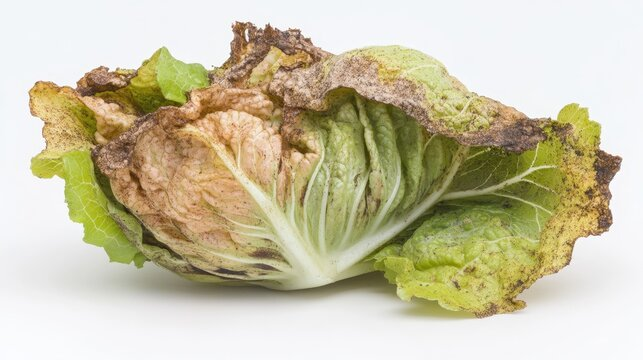lettuce rotten: (29, 19, 611, 325)
